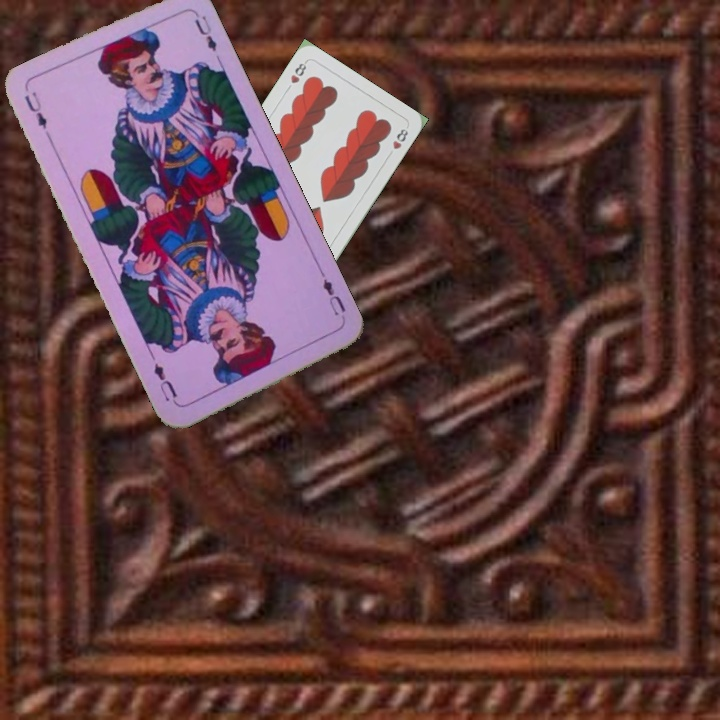EU: (318, 274, 348, 319), (20, 87, 50, 132)
H8: (286, 57, 309, 86)
